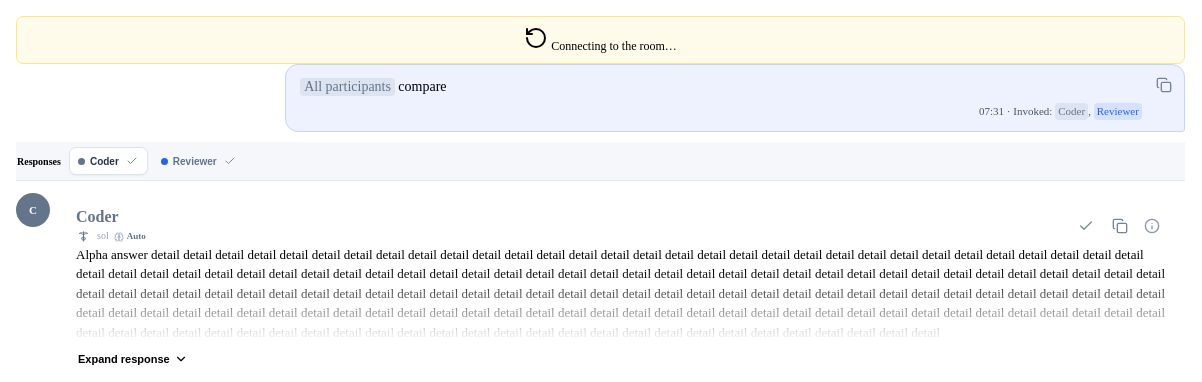
Scenario: Timeline run details › shows one focused response when a round contains multiple long answers
Expected: the text "Alpha answer" is shown, [76,247,1165,340]
Expected: the text "Beta answer" is not shown
Click the button "Reviewer" in the row of "Responses".
click(199, 161)  # box [152,147,246,175]
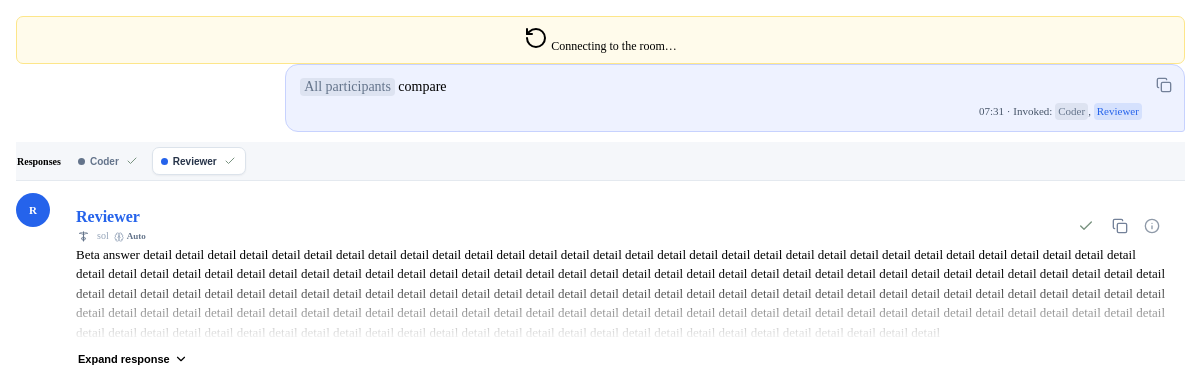
Expected: the text "Alpha answer" is gone
Expected: the text "Beta answer" is shown, [76,247,1165,340]
